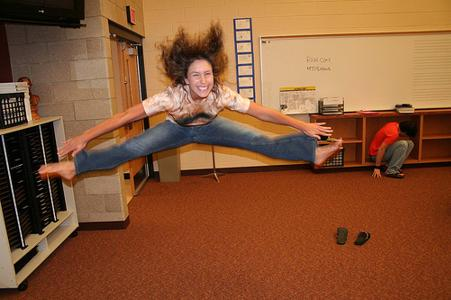person: (39, 24, 346, 183)
